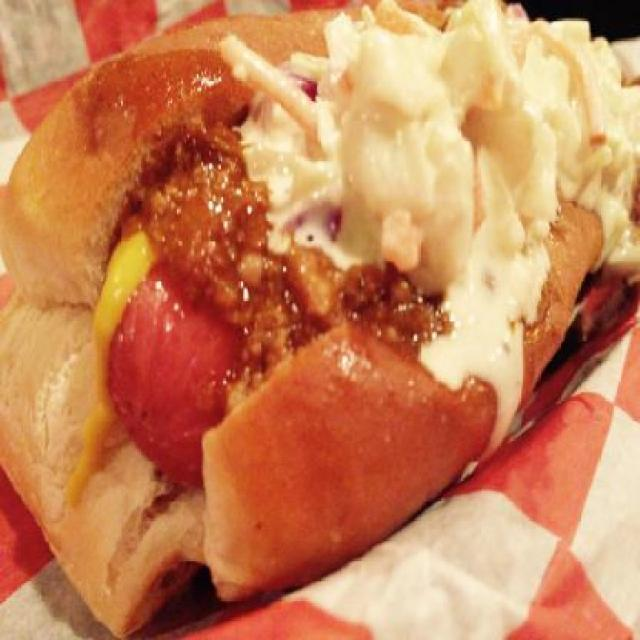Hot dog: (0, 0, 638, 638)
